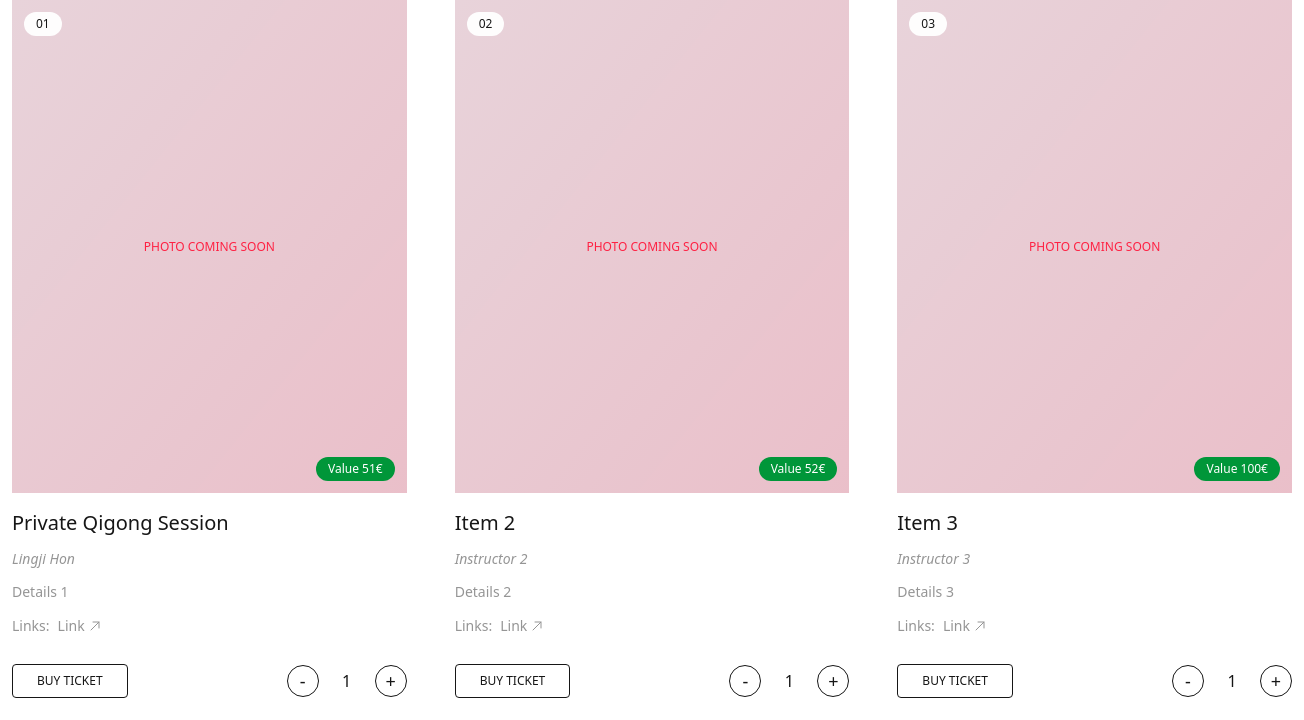
Scenario: RaffleGrid - PayPal Integration › allows users to decrease quantity (minimum 1)
This screenshot has width=1304, height=720.
Increase quantity first
Click the button "+" below "Private Qigong Session" at (391, 681), box [375, 665, 407, 697]
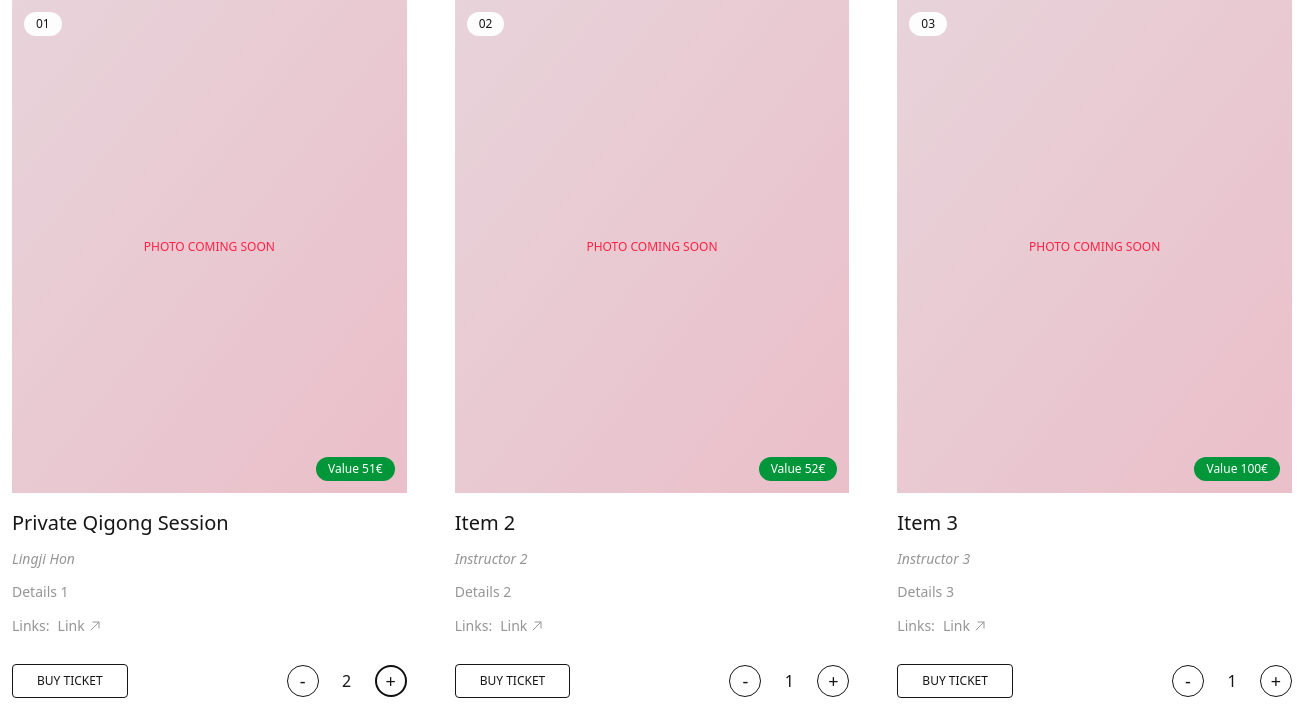
Decrease quantity
Click the button "-" below "Lingji Hon" at (303, 681), box [287, 665, 319, 697]
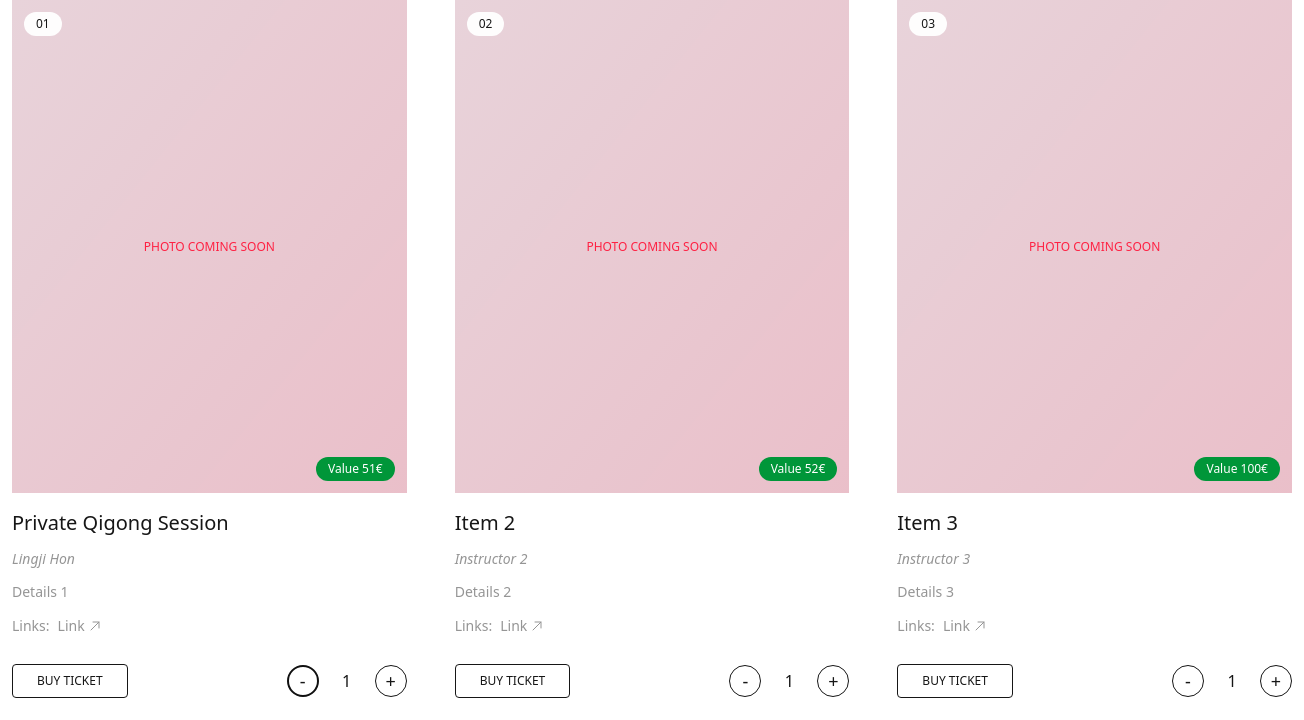
Result: the text "1" below "Lingji Hon" is shown at [342, 670, 351, 692]
